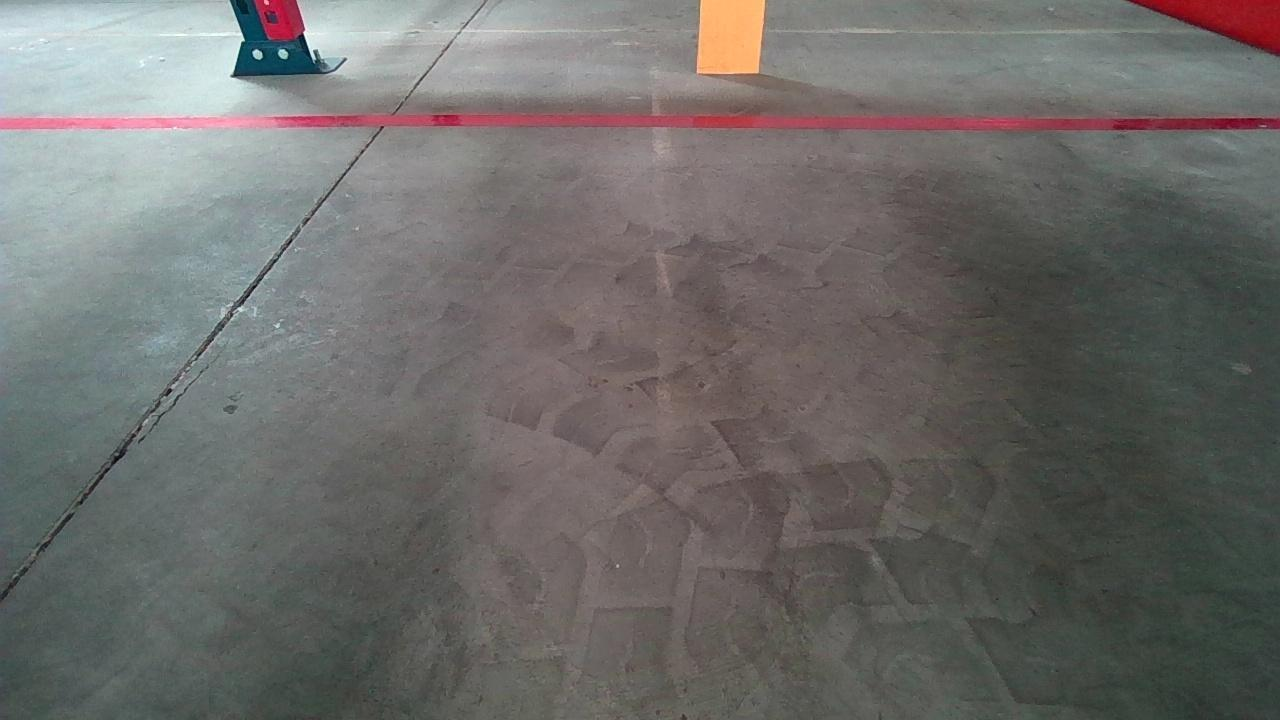orange_strip: (697, 0, 765, 73)
red_line: (0, 115, 1280, 129)
